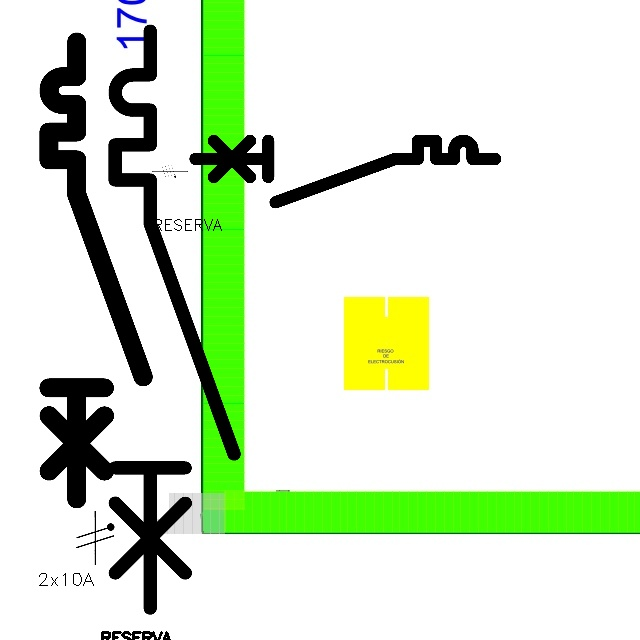interruptor_termomagnetico: (100, 16, 248, 623), (37, 30, 154, 510), (187, 133, 502, 210)
